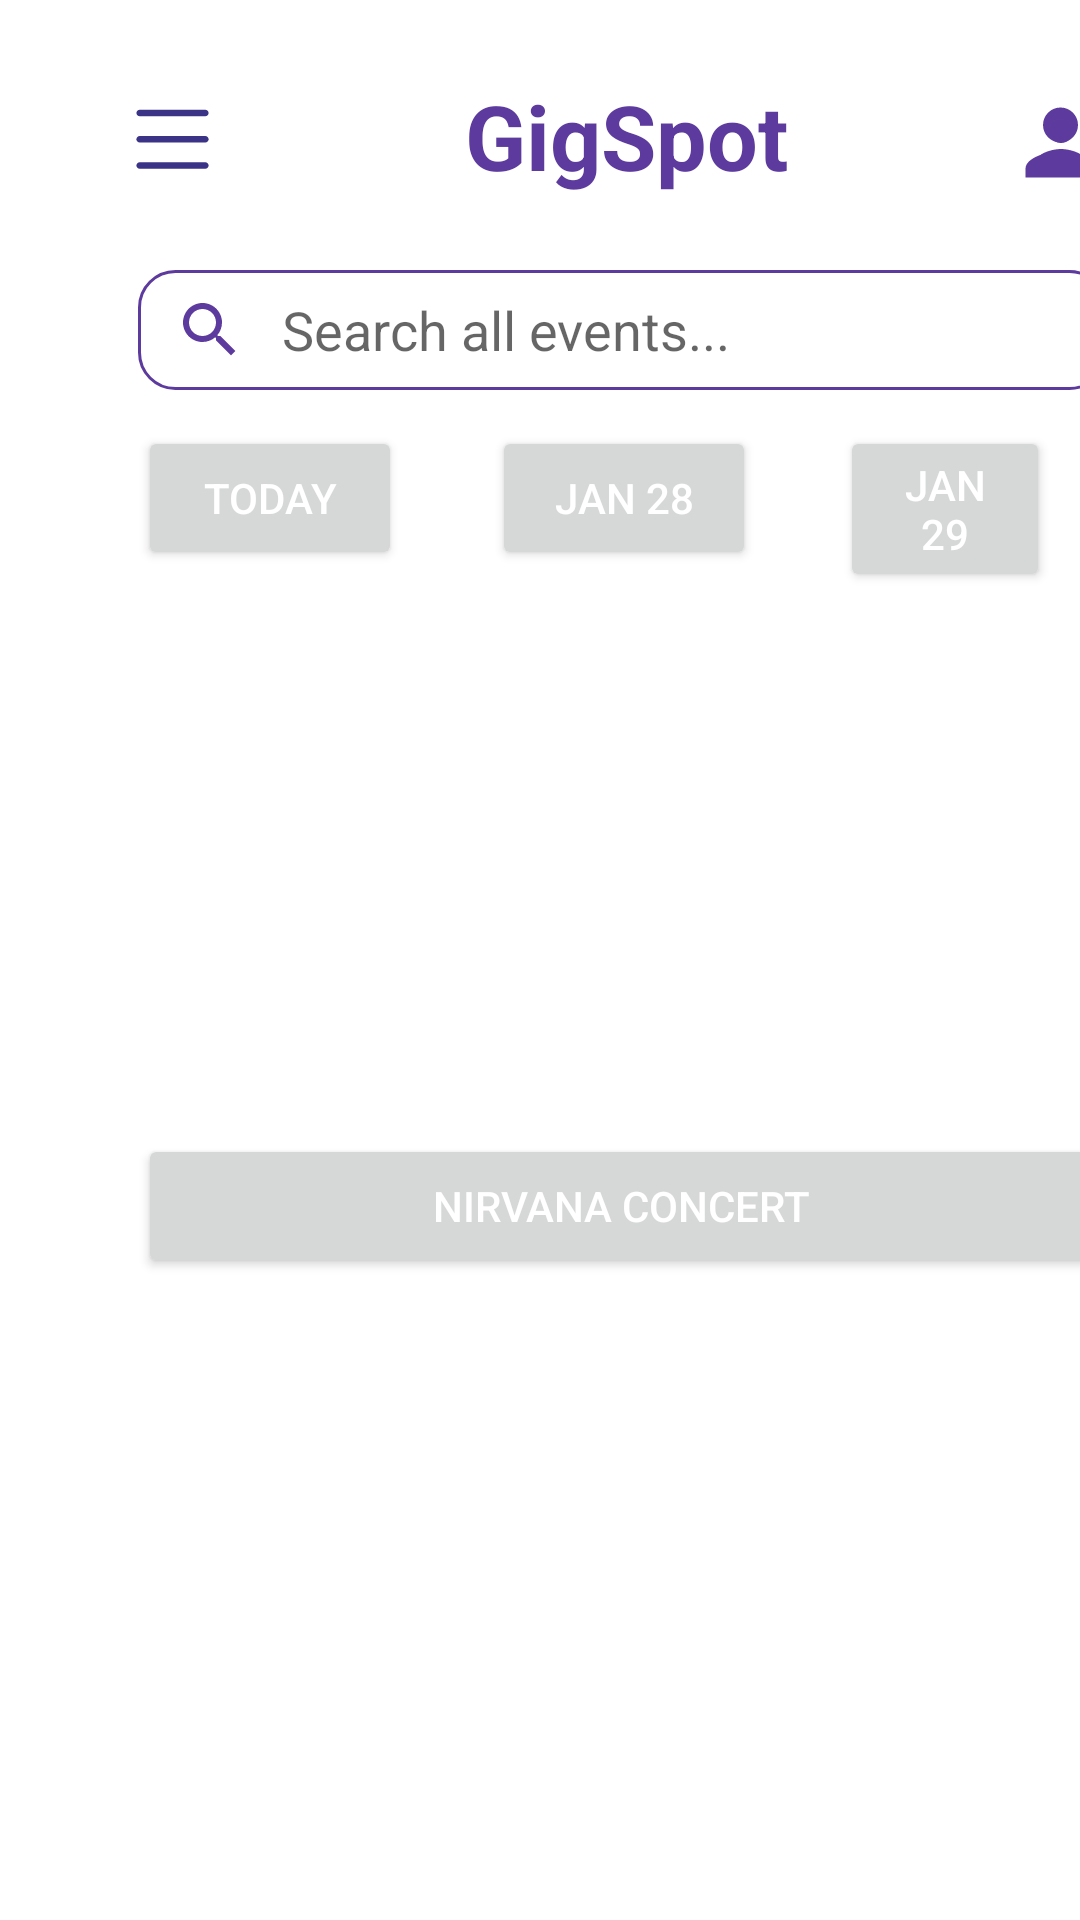

Screen size 1080px x 1920px. Icon name, then its box in pixels as detection(x1, y1, x2, y2):
list: detection(136, 109, 209, 169)
